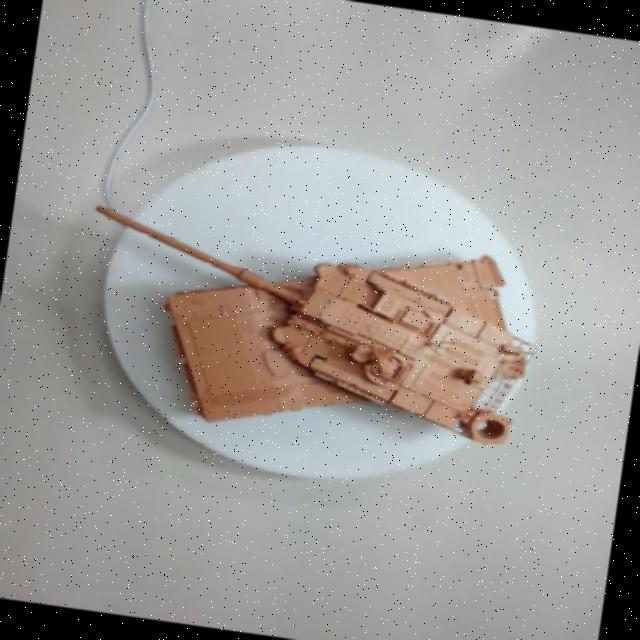korea tank: (48, 142, 586, 512)
